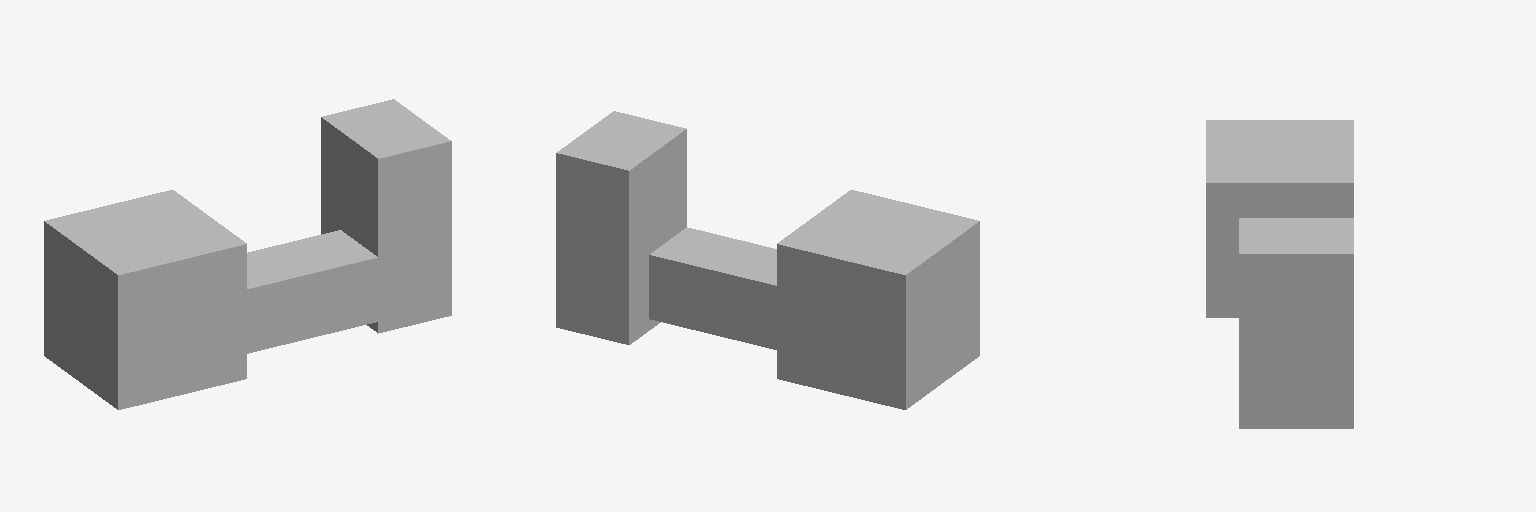
The model's file is thing.obj.
3 renders of one model, left to right at view 1: azimuth 30°, elevation 25°; view 2: azimuth 150°, elevation 25°; view 3: azimuth 270°, elevation 25°, orthographic.
Visible parts, largest first — view 1: Cube_Material, off; view 2: Cube_Material, off; view 3: off, Cube_Material.
Boxes of the visible parts, <box> form: Cube_Material: <box>44,190,246,409</box>; off: <box>247,99,451,353</box>; Cube_Material: <box>777,190,979,409</box>; off: <box>556,111,776,349</box>; off: <box>1239,218,1353,428</box>; Cube_Material: <box>1206,120,1353,317</box>.
Size of the model in its own units: 5.42 by 2.59 by 2.